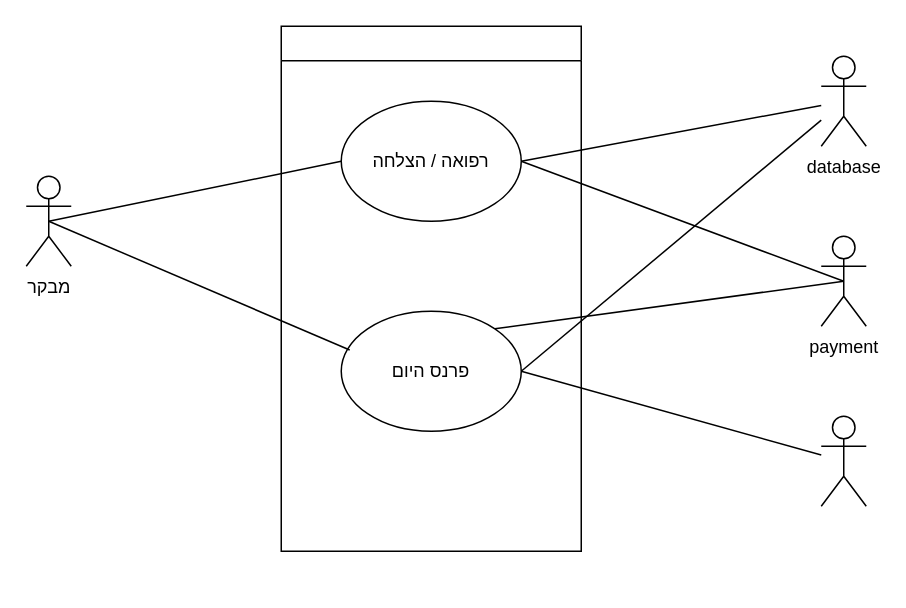
The diagram is 906 pixels wide and 608 high, and some of its shapes have lost their labels. The box of each missing label's shape, as (x1, y1, x2, y2) in pixels:
date confrim service: (820, 415, 866, 506)
הקדשות: (280, 25, 581, 551)
